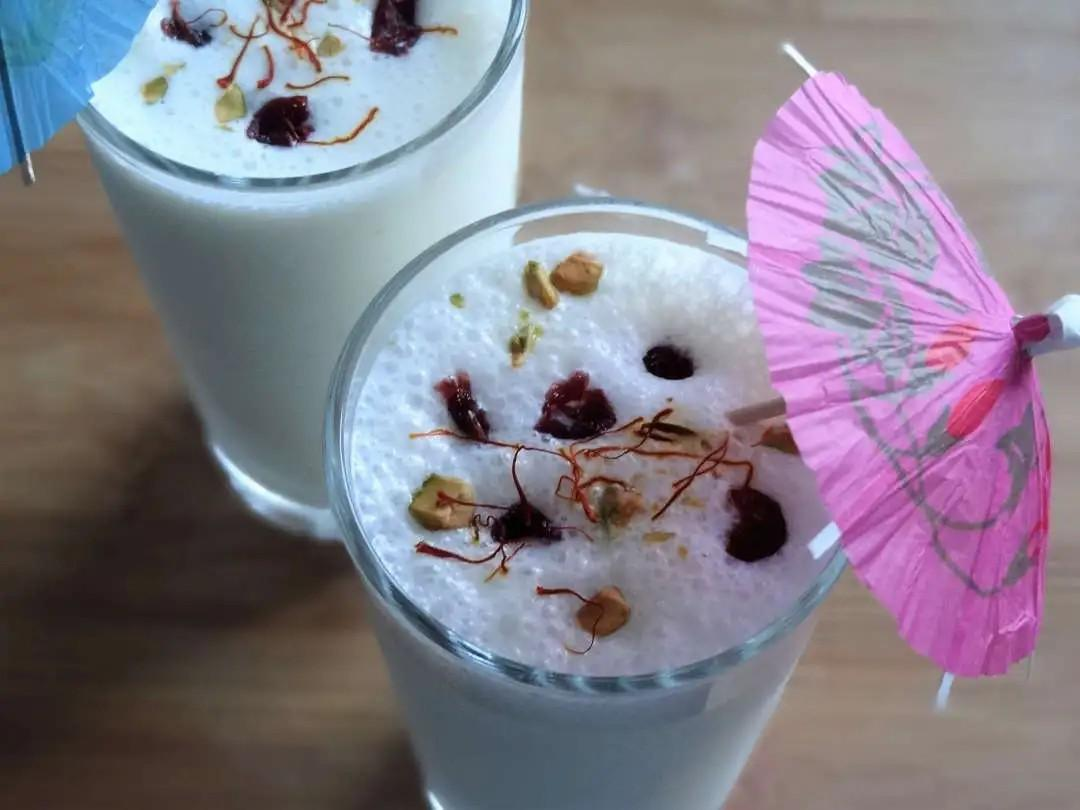Lassi: (346, 230, 865, 809), (80, 0, 546, 512)
